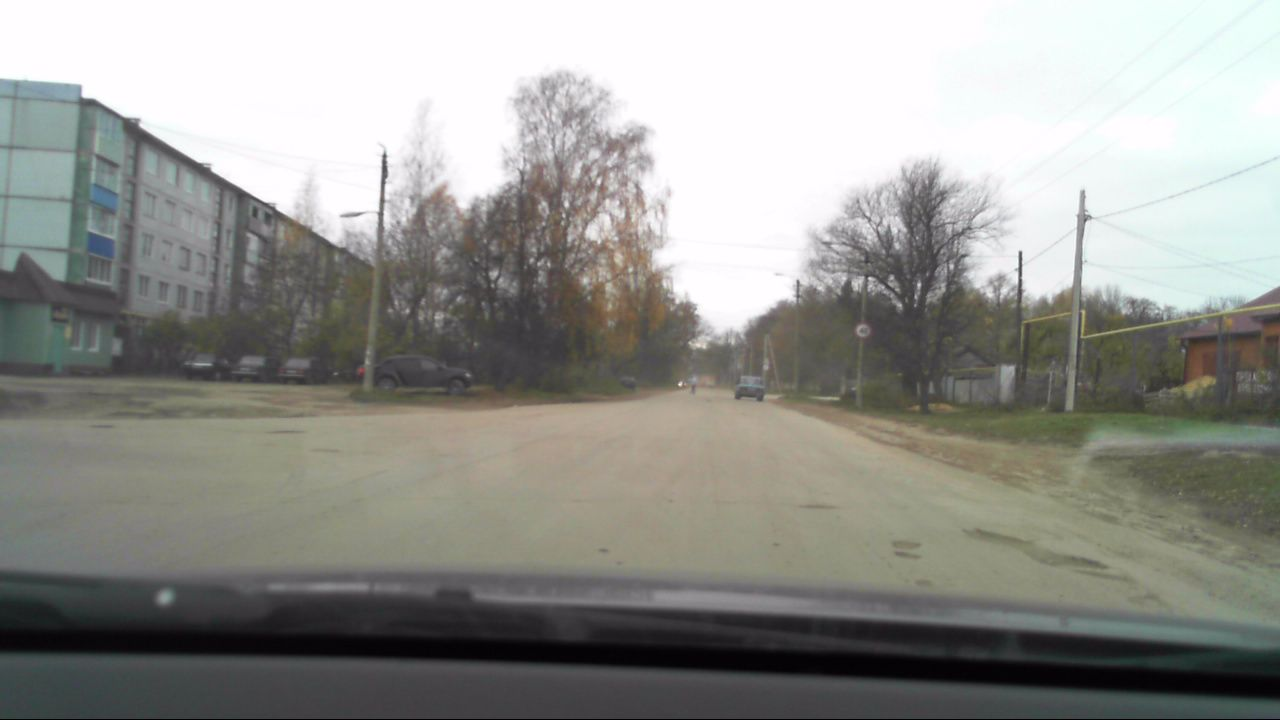speed_warning_40: (854, 321, 873, 341)
